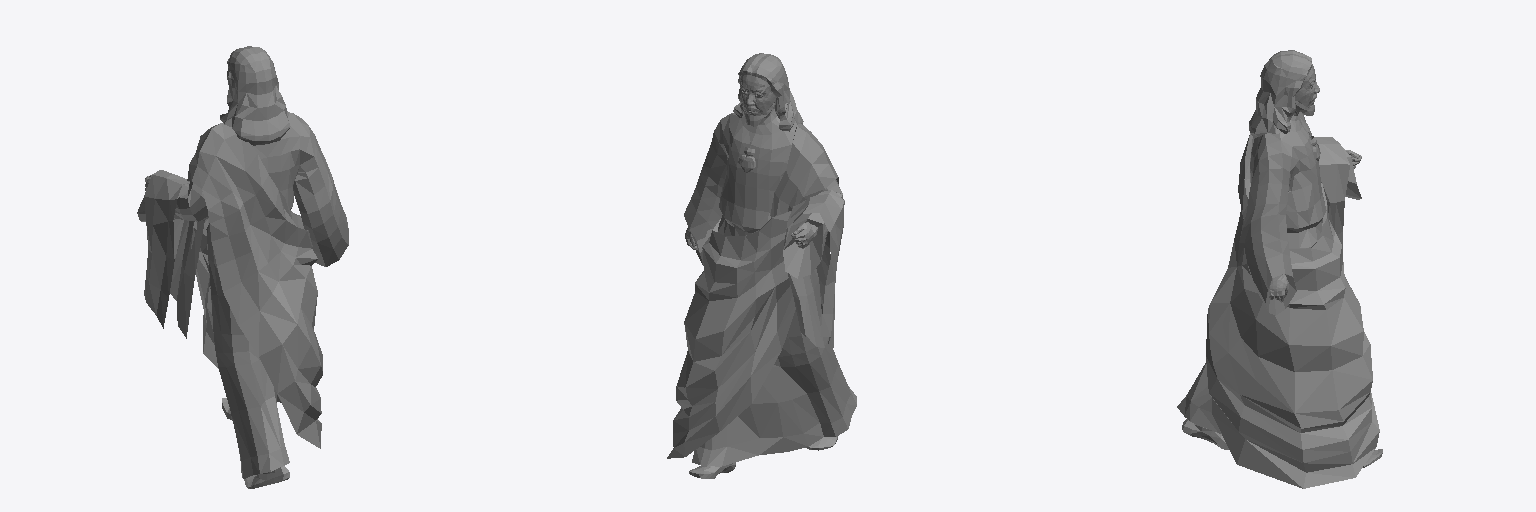
File: Jesus.obj
3 views of the same model, side by side, from view 1: azimuth 30°, elevation 25°; view 2: azimuth 150°, elevation 25°; view 3: azimuth 270°, elevation 25° (orthographic).
Parts seen in each view (by area): view 1: objMesh, objpolySurface195, objpolySurface197; view 2: objMesh, objpolySurface195, objpolySurface197; view 3: objMesh, objpolySurface195, objpolySurface197.
Boxes of the visible parts, x1=… form: objMesh: x1=144, y1=123, x2=322, y2=448; objpolySurface195: x1=137, y1=46, x2=348, y2=478; objpolySurface197: x1=145, y1=175, x2=289, y2=488; objMesh: x1=667, y1=124, x2=844, y2=458; objpolySurface195: x1=684, y1=53, x2=856, y2=466; objpolySurface197: x1=685, y1=222, x2=837, y2=478; objMesh: x1=1206, y1=112, x2=1379, y2=488; objpolySurface195: x1=1177, y1=50, x2=1361, y2=433; objpolySurface197: x1=1182, y1=150, x2=1382, y2=467.
Size of the model in its own units: 19.94 by 44.47 by 20.5.